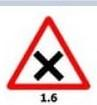road_sign: (7, 16, 89, 89)
